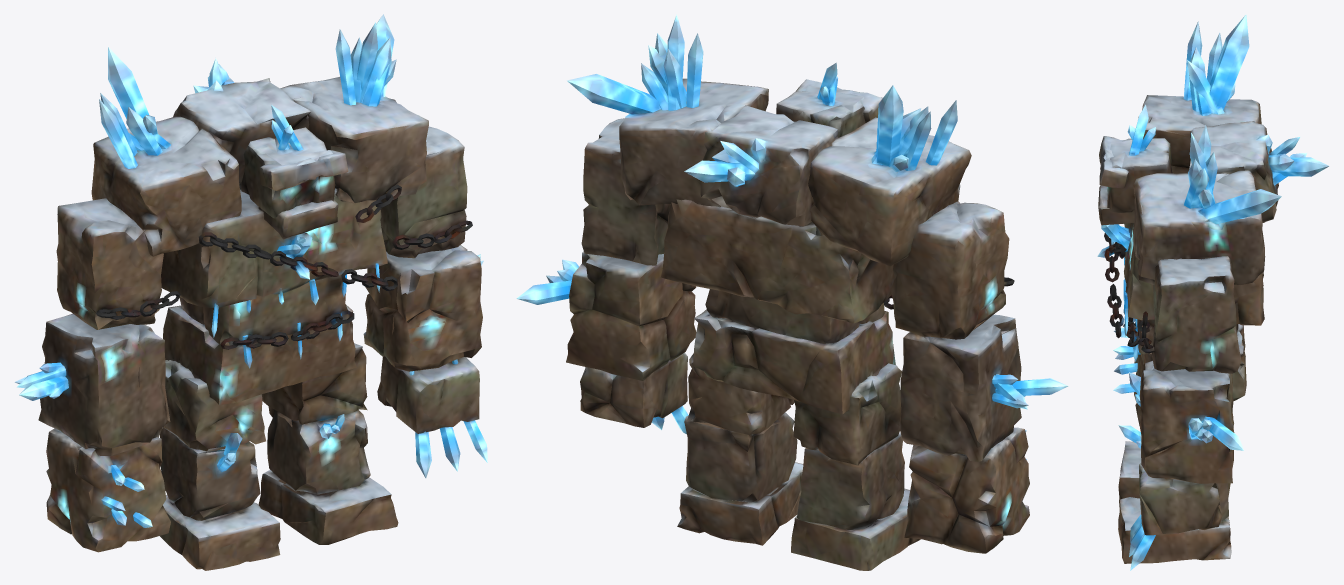
Rendered from golem.glb.
3 views of the same model, side by side, from view 1: azimuth 30°, elevation 25°; view 2: azimuth 150°, elevation 25°; view 3: azimuth 270°, elevation 25° (orthographic). The views are drawn at different scales.
Visible parts, largest first — view 1: torso, fore_r, shin_l, shin_r, fore_l, arm_r, hand_r, pelvis, head, hand_l, arm_l, thigh_r (+1 smaller); view 2: torso, fore_r, fore_l, arm_r, shin_l, pelvis, shin_r, hand_r, arm_l, thigh_r, hand_l, thigh_l (+1 smaller); view 3: torso, fore_l, arm_l, hand_l, head, shin_l, shin_r, hand_r, pelvis.
Part boxes in pixels (bbox=[...]): torso: bbox=[91, 14, 428, 368]; fore_r: bbox=[14, 313, 170, 455]; shin_l: bbox=[258, 406, 398, 544]; shin_r: bbox=[160, 427, 280, 570]; fore_l: bbox=[363, 245, 483, 375]; arm_r: bbox=[56, 198, 180, 329]; hand_r: bbox=[46, 428, 170, 552]; pelvis: bbox=[163, 304, 356, 404]; head: bbox=[241, 104, 348, 239]; hand_l: bbox=[377, 356, 487, 478]; arm_l: bbox=[380, 115, 472, 258]; thigh_r: bbox=[163, 360, 265, 451]; torso: bbox=[567, 14, 971, 343]; fore_r: bbox=[899, 314, 1068, 461]; fore_l: bbox=[516, 251, 696, 380]; arm_r: bbox=[891, 201, 1014, 339]; shin_l: bbox=[677, 412, 803, 545]; pelvis: bbox=[693, 309, 895, 414]; shin_r: bbox=[791, 433, 920, 570]; hand_r: bbox=[904, 427, 1029, 553]; arm_l: bbox=[581, 118, 670, 265]; thigh_r: bbox=[793, 363, 901, 465]; hand_l: bbox=[580, 352, 688, 434]; thigh_l: bbox=[686, 353, 794, 434]; torso: bbox=[1097, 14, 1329, 361]; fore_l: bbox=[1139, 361, 1243, 483]; arm_l: bbox=[1137, 256, 1241, 373]; hand_l: bbox=[1129, 463, 1222, 570]; head: bbox=[1098, 104, 1172, 225]; shin_l: bbox=[1118, 425, 1231, 563]; shin_r: bbox=[1118, 372, 1230, 506]; hand_r: bbox=[1113, 327, 1143, 426]; pelvis: bbox=[1140, 324, 1246, 400].
Bounding box in the file's own units: 3.06 × 2.89 × 1.35.
1 material, 1 textured.
